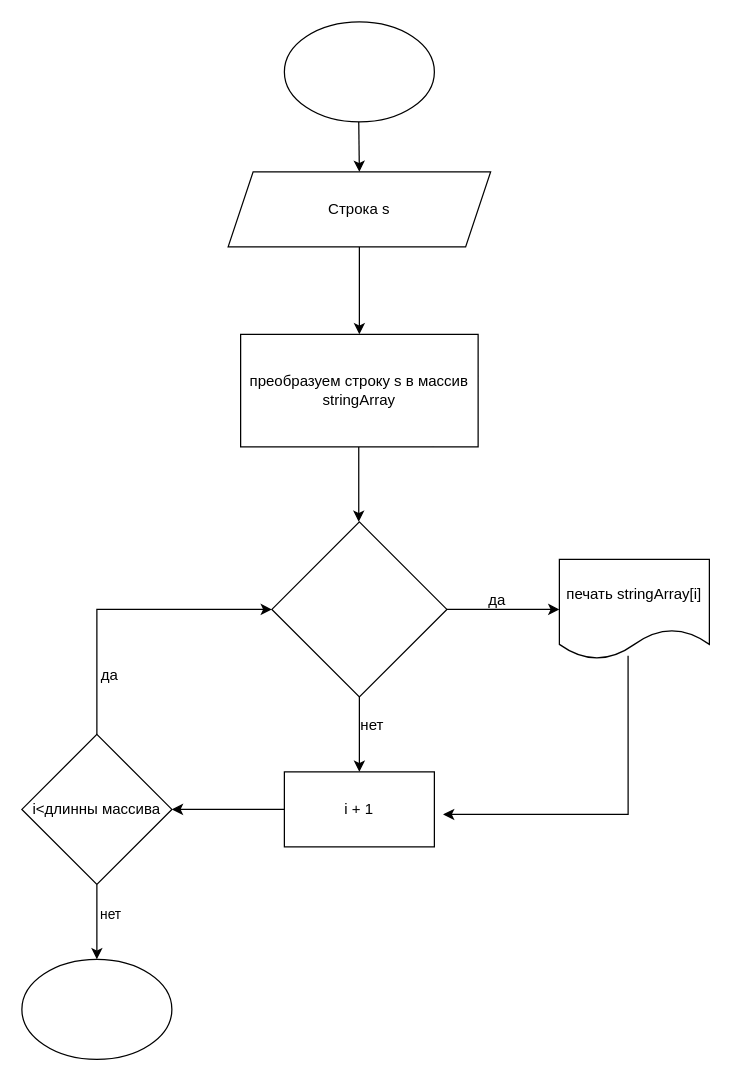
This 731x1081 diagram has some shape labels left out. Each missing label, with the centre of its shape:
"если элемент массива stringArray[i]<=3" belongs at point 359,609.
"завершение" belongs at point 96,1008.
"Начало" belongs at point 358,71.
